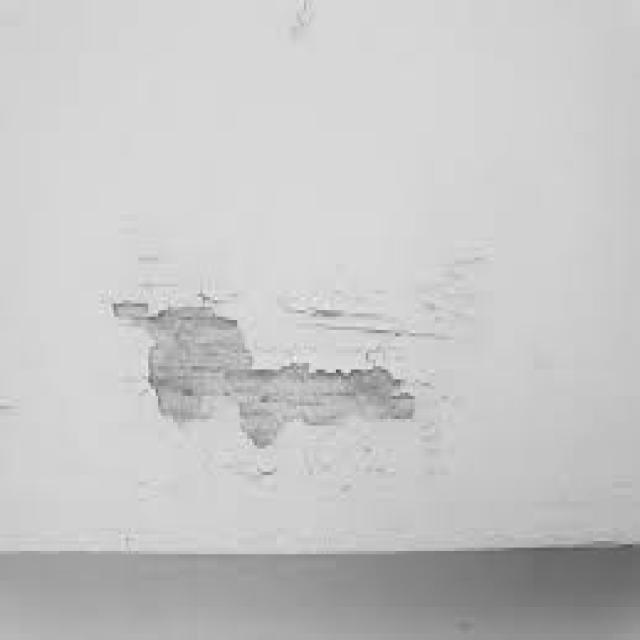peeling paint: (87, 243, 477, 531)
